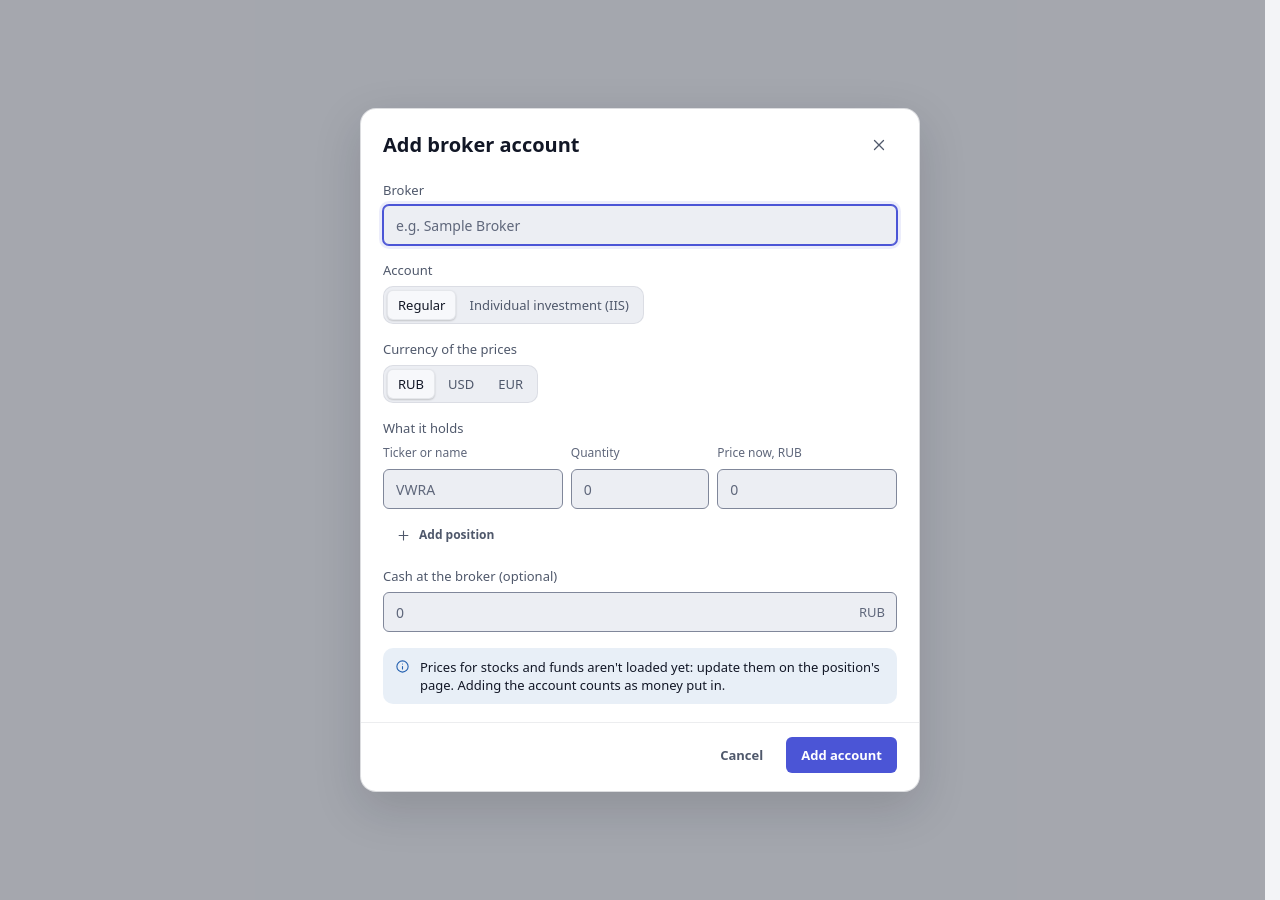
BROKER-ADD Add broker account › says nothing was saved when the account is refused
Click the radio button labelled "USD": click(461, 384) [448,375,474,393]
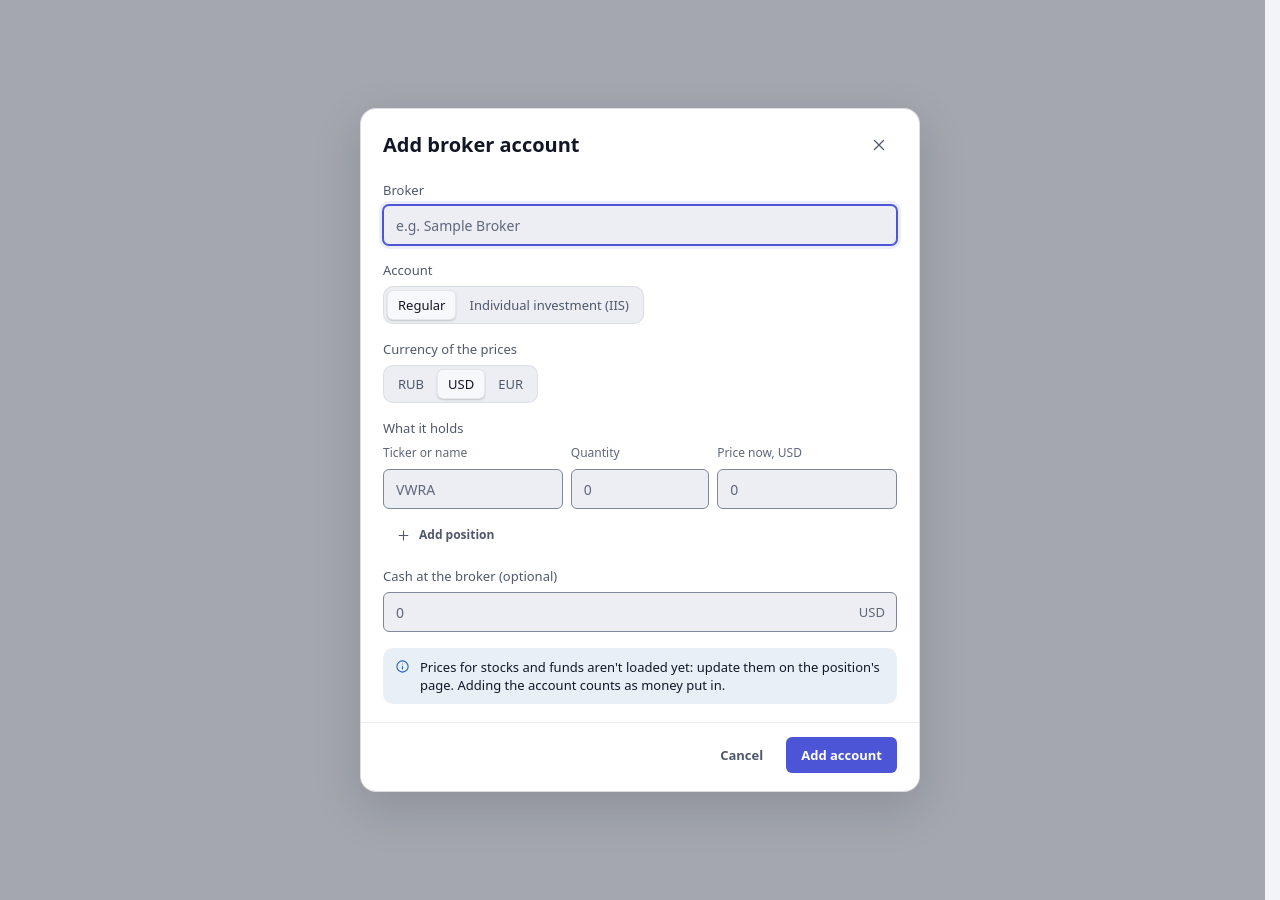
In the field labelled "Broker": (640, 225) [383,205,897,245], type "Sample Broker"
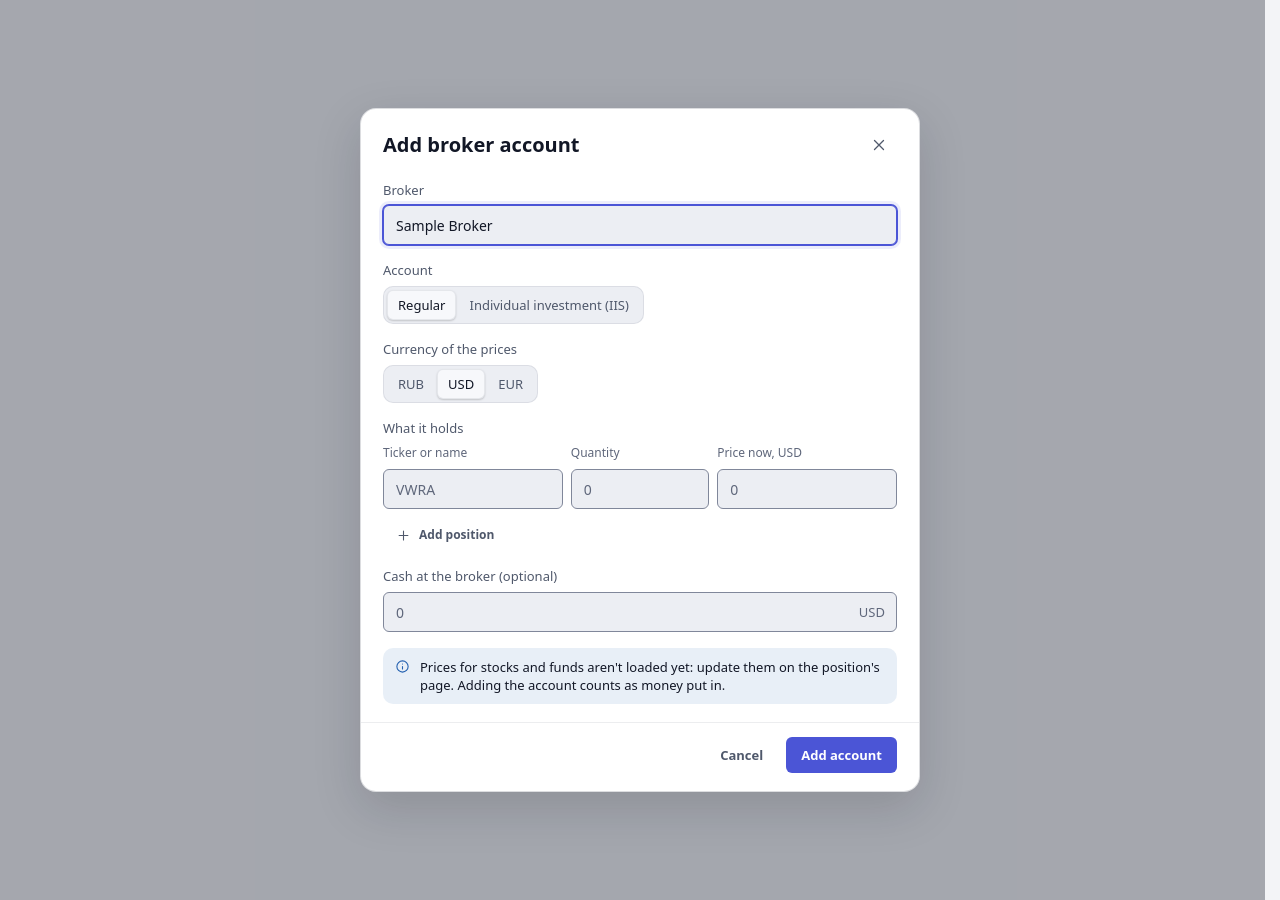
In the field labelled "Cash at the broker (optional)": (640, 612) [383,592,897,632], type "250"
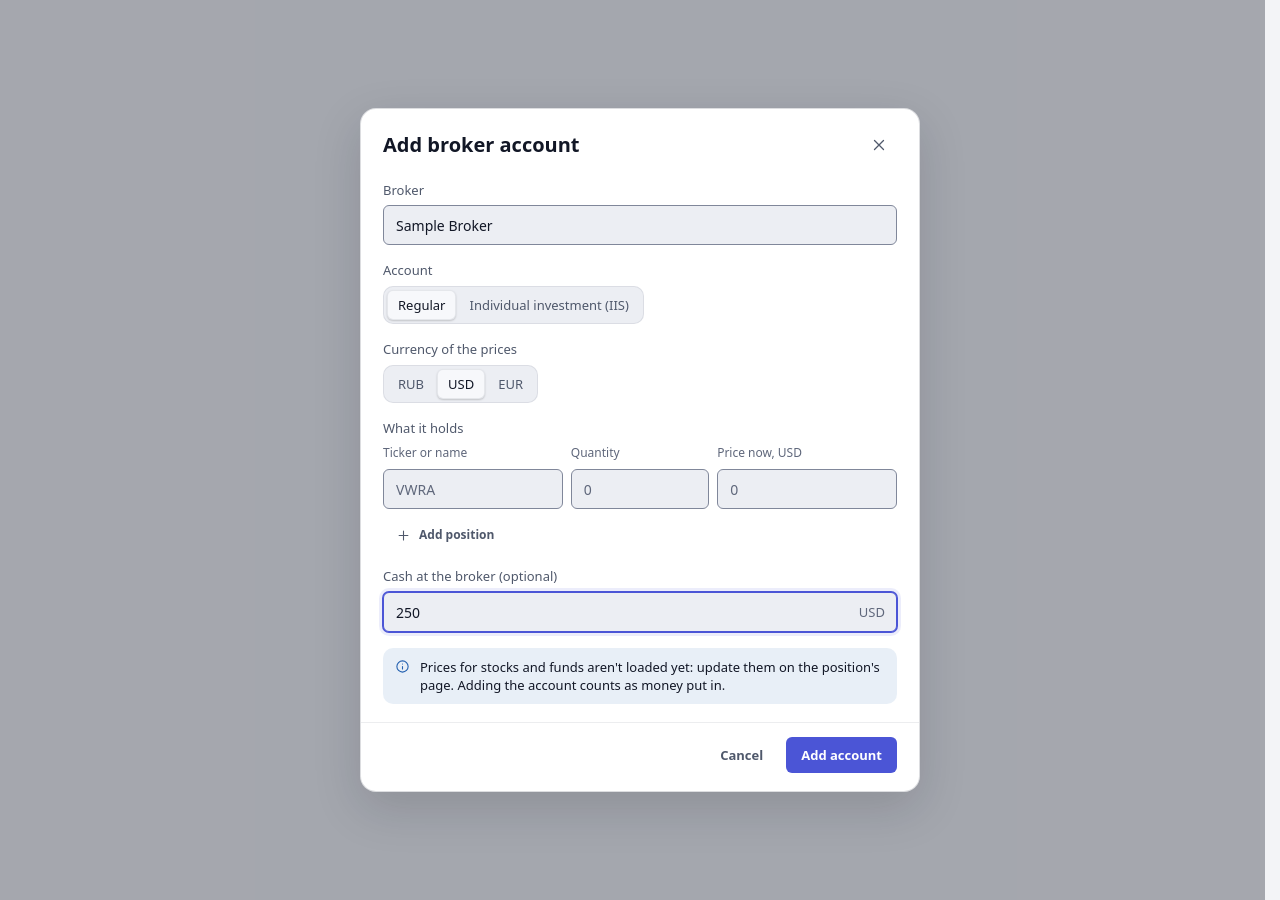
Click the button "Add account": click(842, 756) [786,738,897,774]
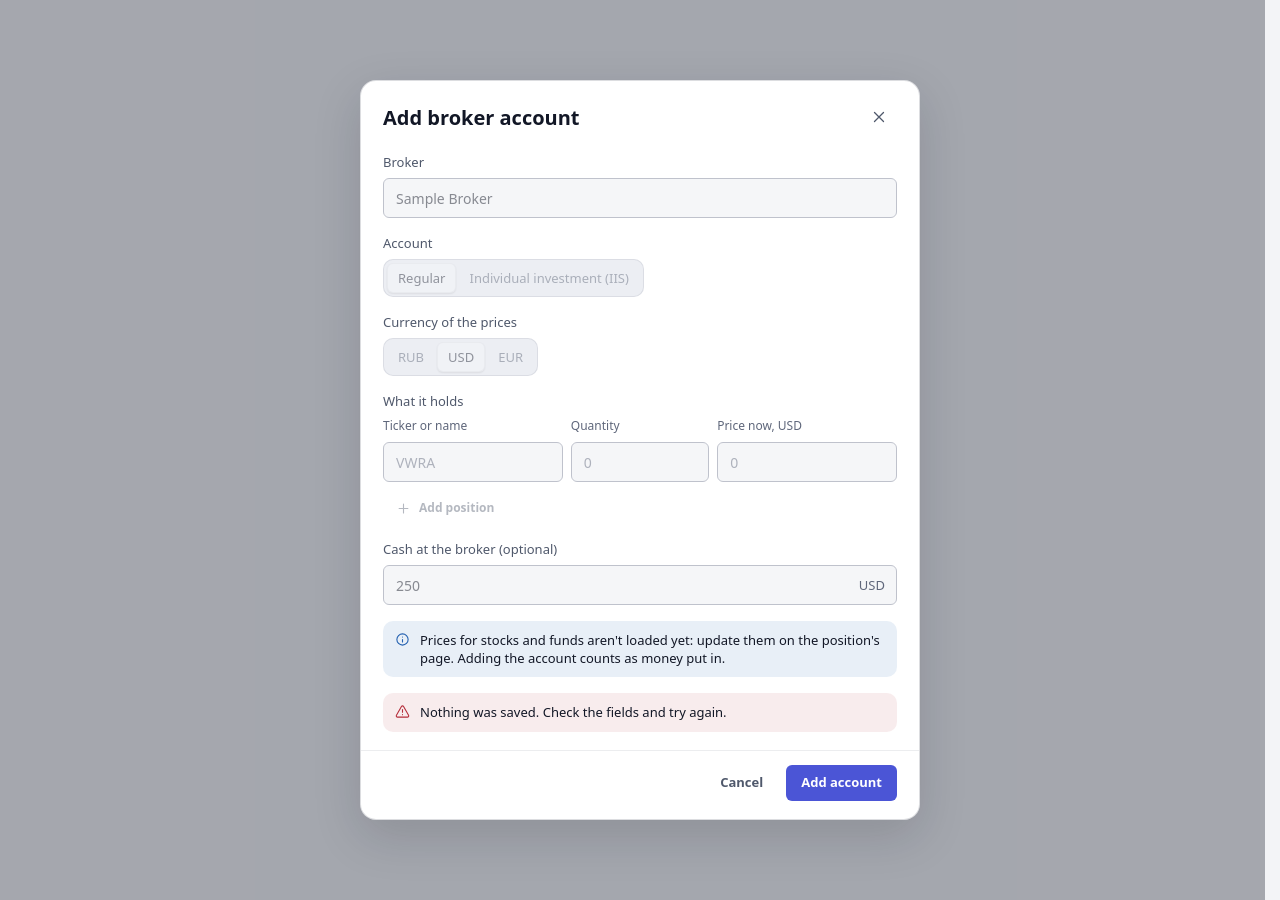
Expected: the message reads "Nothing was saved. Check the fields and try again.", [420,703,727,721]
